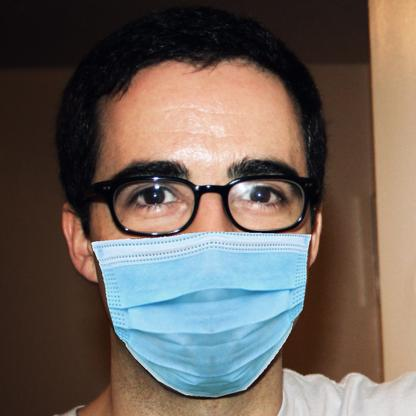mask: (91, 231, 314, 400)
